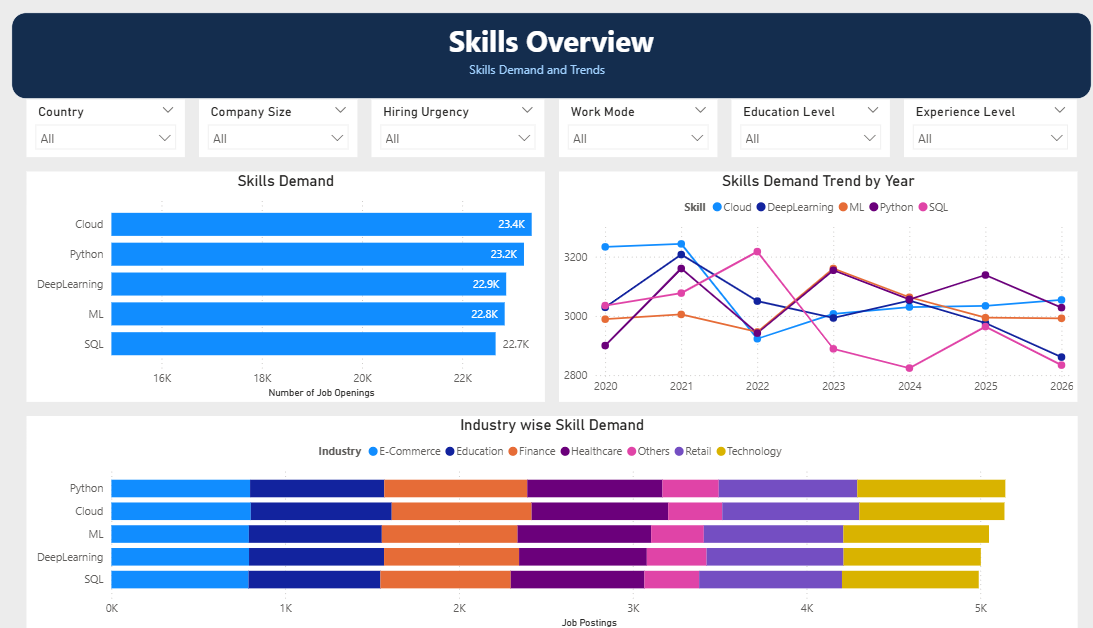

The page's visual inventory and layout, read from the dashboard file:
{"tool":"powerbi","page":{"name":"Skills Overview","canvas":[1280,720],"ordinal":2},"visuals":[{"type":"textbox","box":[32,32,1200,96],"z":0},{"type":"lineChart","title":"Skills Demand Trend by Year","fields":{"Category":["Skills Data.Posting_Year_Final"],"Y":["Sum(Skills Data.Job_Openings_Final)"],"Series":["Skills Data.Skill"]},"box":[640,208,576,256],"z":1000},{"type":"textbox","box":[432,80,368,32],"z":2000},{"type":"slicer","fields":{"Values":["Final Dataset.Remote_Type_Final"]},"box":[640,128,176,64],"z":3000},{"type":"slicer","fields":{"Values":["Final Dataset.Company Size_Final"]},"box":[240,128,176,64],"z":4000},{"type":"slicer","fields":{"Values":["Final Dataset.Country"]},"box":[48,128,176,64],"z":5000},{"type":"slicer","fields":{"Values":["Final Dataset.Hiring_Urgency_Final"]},"box":[432,128,192,64],"z":6000},{"type":"clusteredBarChart","title":"Skills Demand","fields":{"Category":["Skills Data.Skill"],"Y":["Sum(Skills Data.Job_Openings_Final)"]},"box":[48,208,576,256],"z":7000},{"type":"barChart","title":"Industry wise Skill Demand","fields":{"Category":["Skills Data.Skill"],"Y":["CountNonNull(Skills Data.Skill)"],"Series":["Skills Data.Company_Industry_Final"]},"box":[48,480,1168,240],"z":8000},{"type":"slicer","fields":{"Values":["Final Dataset.Education_Level_Final"]},"box":[832,128,176,64],"z":8001},{"type":"slicer","fields":{"Values":["Final Dataset.Exp. Level_Final"]},"box":[1024,128,192,64],"z":8002}]}

Visuals, with their boxes in screenshot pixels (x1, y1, x2, y2), scaled from the page's 1280x720 canvas onto the 1093x628 screenshot:
textbox: [x1=27, y1=28, x2=1052, y2=112]
"Skills Demand Trend by Year" lineChart: [x1=546, y1=181, x2=1038, y2=405]
textbox: [x1=369, y1=70, x2=683, y2=98]
slicer - Final Dataset.Remote_Type_Final: [x1=546, y1=112, x2=697, y2=167]
slicer - Final Dataset.Company Size_Final: [x1=205, y1=112, x2=355, y2=167]
slicer - Final Dataset.Country: [x1=41, y1=112, x2=191, y2=167]
slicer - Final Dataset.Hiring_Urgency_Final: [x1=369, y1=112, x2=533, y2=167]
"Skills Demand" clusteredBarChart: [x1=41, y1=181, x2=533, y2=405]
"Industry wise Skill Demand" barChart: [x1=41, y1=419, x2=1038, y2=627]
slicer - Final Dataset.Education_Level_Final: [x1=710, y1=112, x2=861, y2=167]
slicer - Final Dataset.Exp. Level_Final: [x1=874, y1=112, x2=1038, y2=167]
